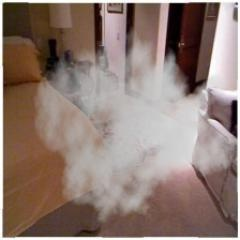smoke: (73, 58, 193, 182)
